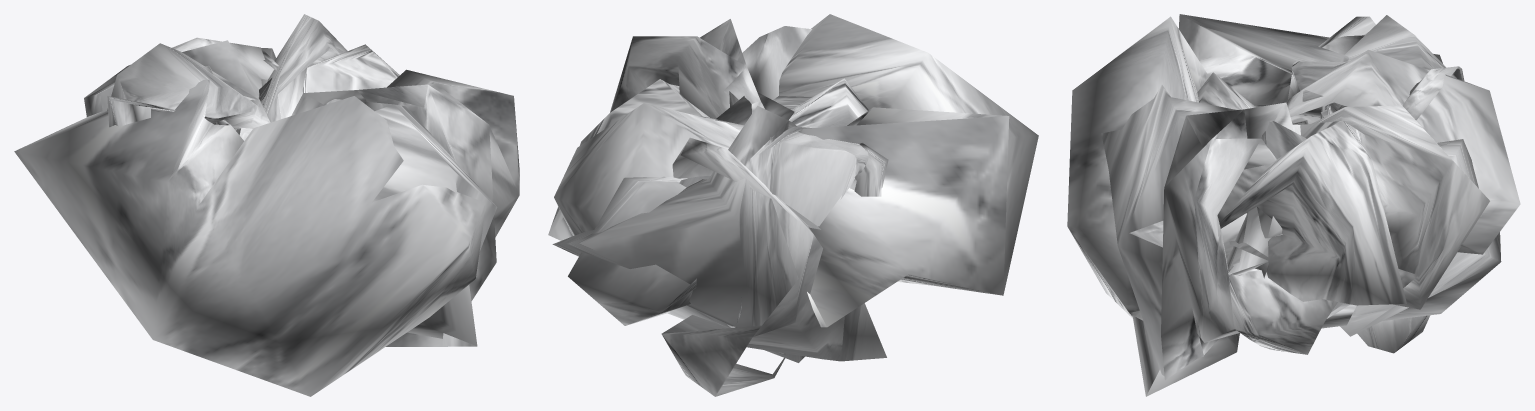
Rendered from paper.fbx.
The picture shows the model from 3 angles, left to right: view 1: azimuth 30°, elevation 25°; view 2: azimuth 150°, elevation 25°; view 3: azimuth 270°, elevation 25°; orthographic projection. The views are drawn at different scales.
Visible parts, largest first — view 1: Plane; view 2: Plane; view 3: Plane.
Boxes of the visible parts, x1,y1,x2,y2 form: Plane: (14,14,519,396); Plane: (548,14,1038,396); Plane: (1067,14,1520,396).
Bounding box in the file's own units: 23.4 × 15.49 × 22.1.
